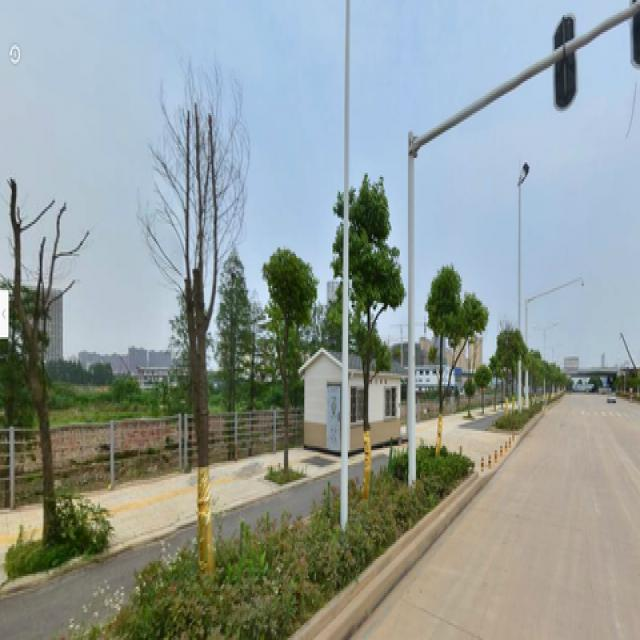cinn: (338, 183, 394, 484), (272, 249, 309, 478), (429, 275, 467, 452)
